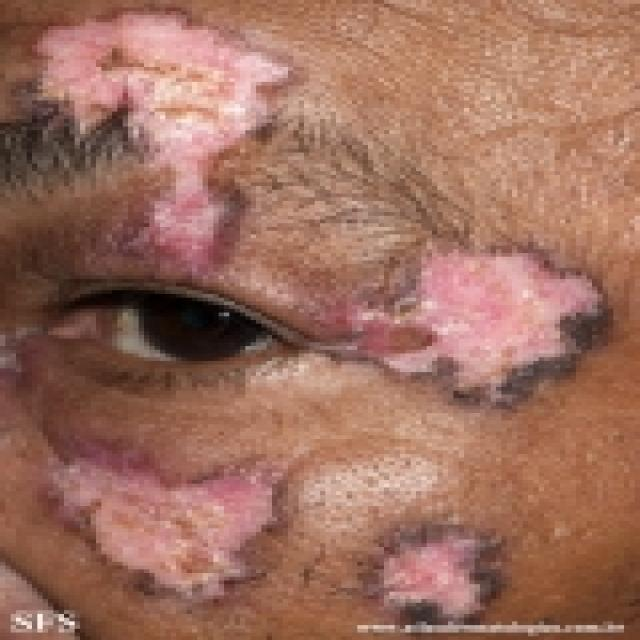lupus: (20, 17, 290, 265), (357, 240, 622, 403), (45, 445, 298, 600), (373, 527, 508, 621)
